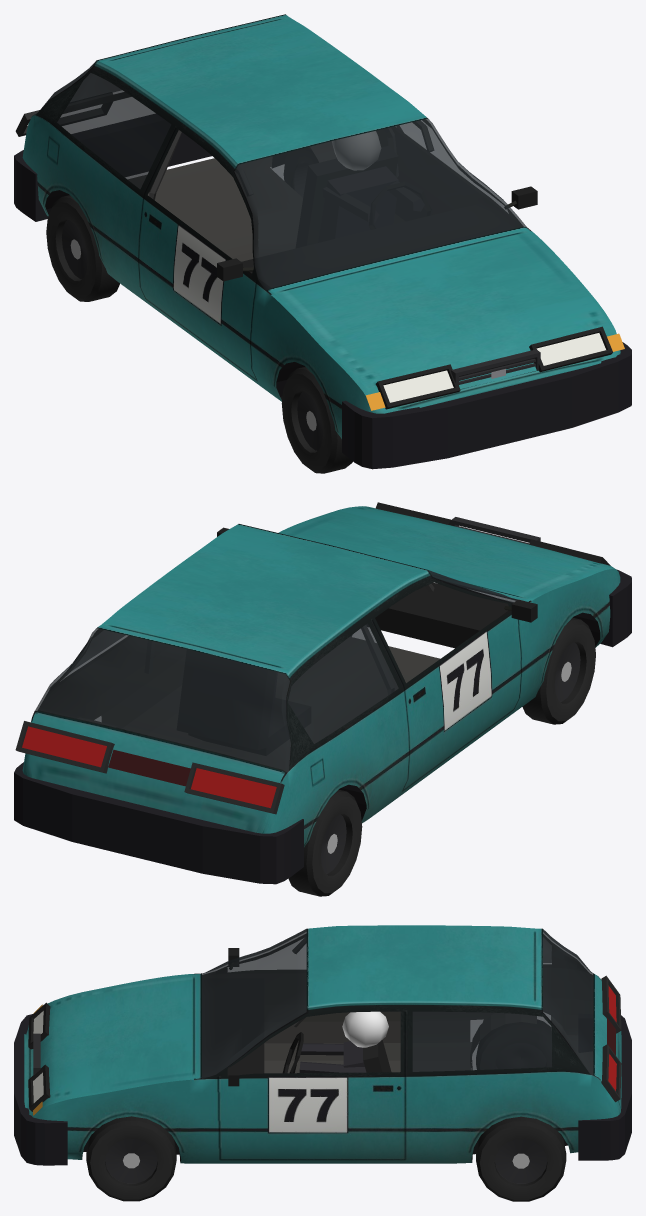
The picture shows the model from 3 angles, top to bottom: view 1: azimuth 30°, elevation 25°; view 2: azimuth 150°, elevation 25°; view 3: azimuth 270°, elevation 25°; orthographic projection. The views are drawn at different scales.
Parts seen in each view (by area): view 1: body, wheel_rr, wheel_fr, wheel_rl; view 2: body, wheel_rr, wheel_fr; view 3: body, wheel_rl, wheel_fl, wheel_rr.
Part boxes in pixels (bbox=[...]): body: bbox=[14, 14, 631, 469]; wheel_rr: bbox=[46, 195, 119, 301]; wheel_fr: bbox=[281, 366, 352, 473]; wheel_rl: bbox=[284, 147, 318, 197]; body: bbox=[14, 502, 631, 884]; wheel_rr: bbox=[288, 789, 362, 896]; wheel_fr: bbox=[522, 617, 595, 724]; body: bbox=[14, 925, 631, 1165]; wheel_rl: bbox=[476, 1116, 566, 1201]; wheel_fl: bbox=[86, 1116, 176, 1201]; wheel_rr: bbox=[476, 1019, 551, 1069].
Size of the model in its own units: 1.93 by 1.33 by 3.96.
2 materials, 1 textured.
